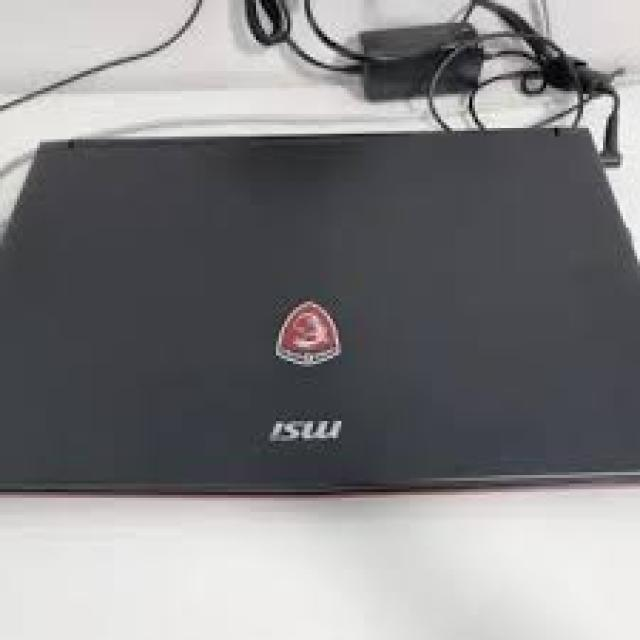laptop: (0, 125, 637, 495)
